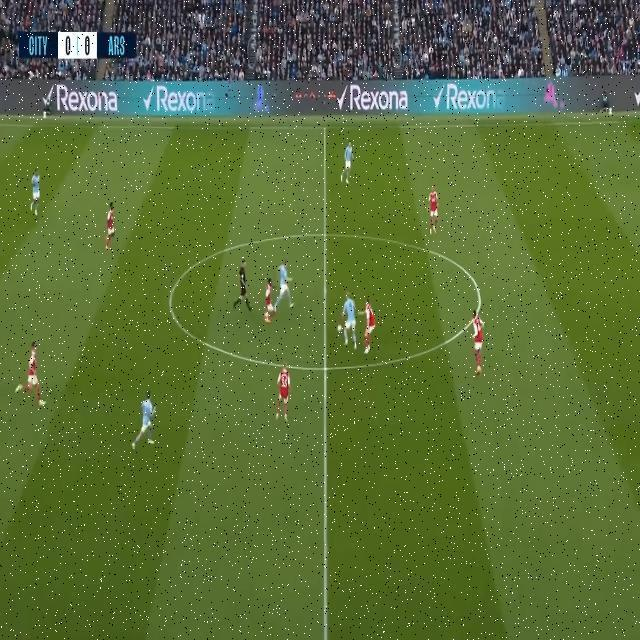ball: (333, 310, 345, 346)
player: (131, 370, 169, 458), (268, 239, 301, 335), (18, 326, 47, 414), (23, 148, 52, 232), (268, 354, 298, 432), (96, 196, 132, 261), (464, 307, 491, 393), (336, 126, 360, 207), (427, 172, 449, 260), (360, 283, 384, 359), (341, 299, 364, 353), (261, 277, 274, 327)
referee: (228, 254, 248, 319)
